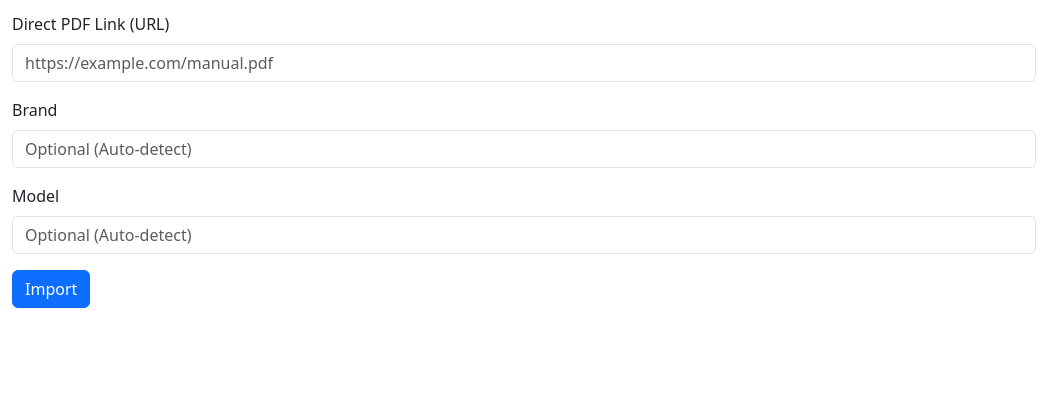
Scenario: ManualImportUrl › submits url successfully
The image size is (1048, 399).
In the field labelled "Direct PDF Link (URL)": (524, 63) [12,44,1036,82], type "http://example.com/test.pdf"
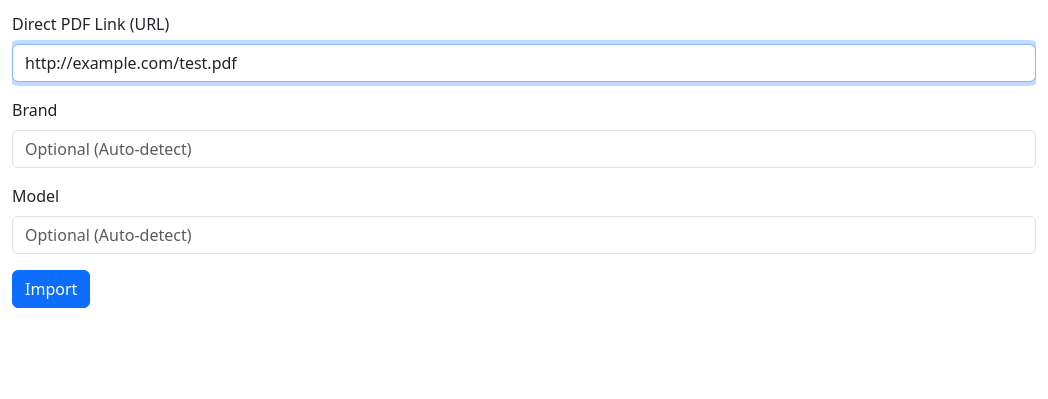
Click the button "Import": (51, 289) [12,270,90,308]
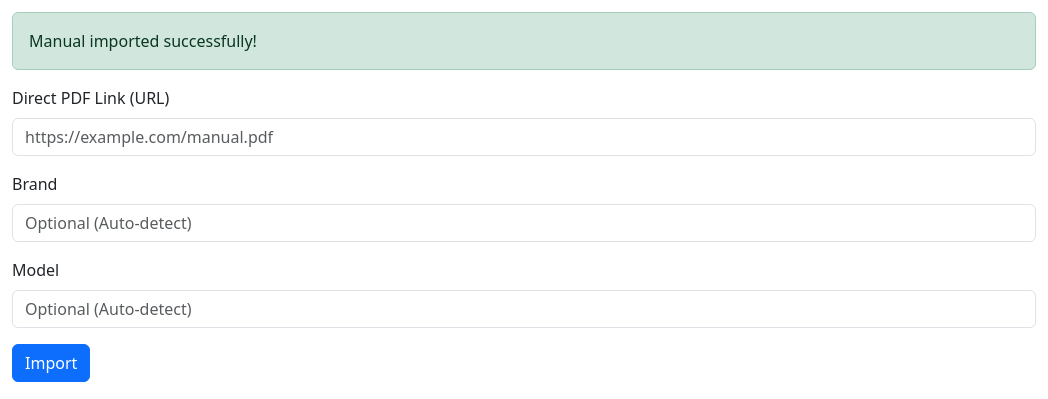
Result: the text "Manual imported successfully!" is shown at [12,12,1036,70]
